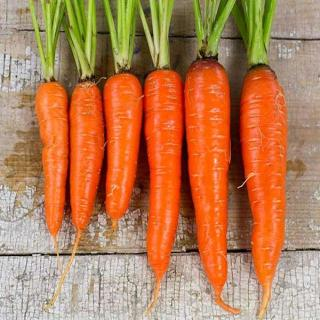carrot: (184, 51, 232, 291), (241, 61, 287, 289), (142, 67, 184, 279), (104, 62, 142, 225), (70, 73, 104, 237), (34, 76, 68, 236)
